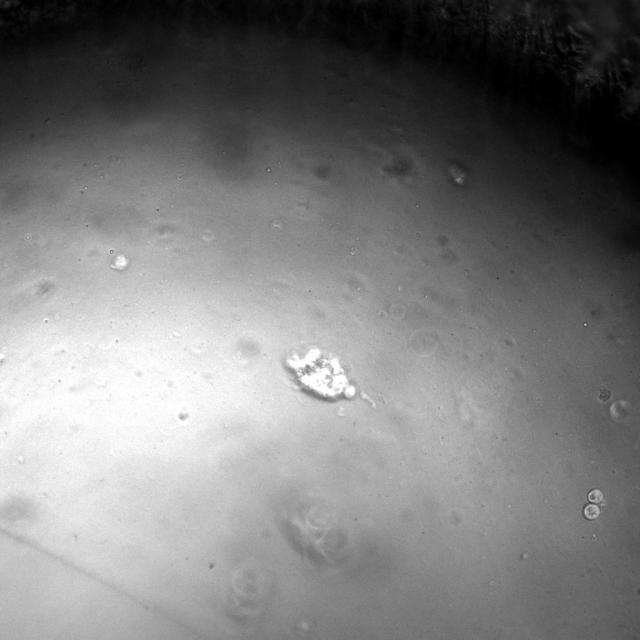organoid: (286, 348, 354, 399), (583, 488, 603, 520)
